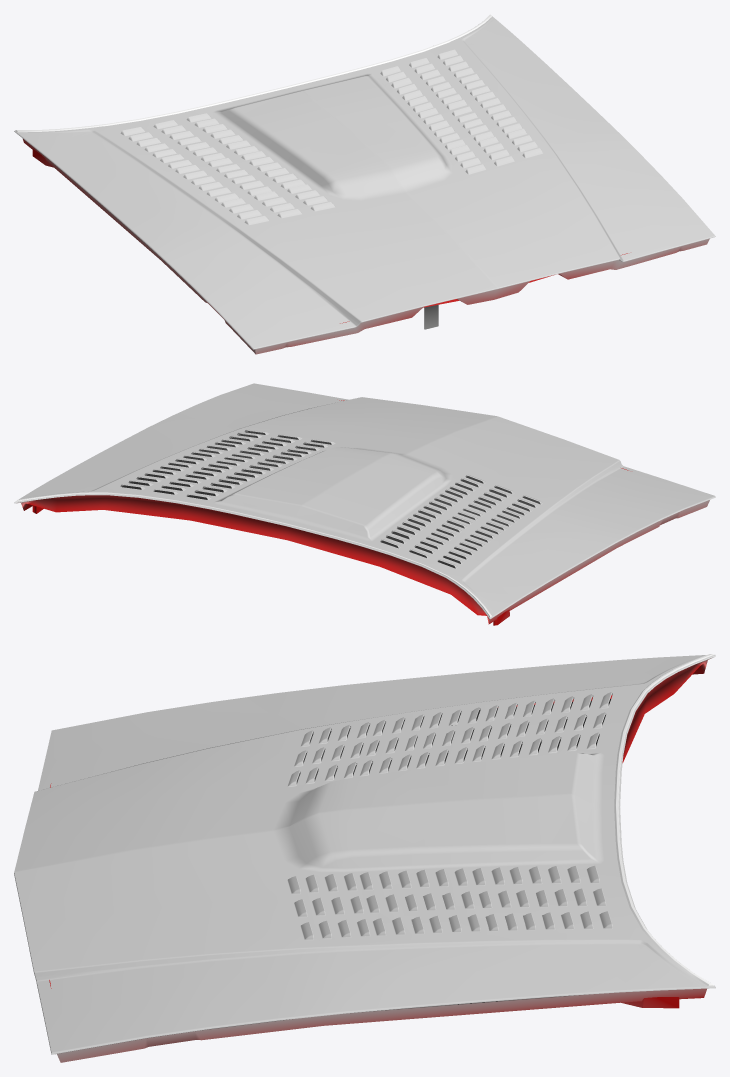
The model's file is Car_Buick_GrandNational_1987_Hood_SetB.fbx.
3 views of the same model, one above another, from view 1: azimuth 30°, elevation 25°; view 2: azimuth 150°, elevation 25°; view 3: azimuth 270°, elevation 25° (orthographic). The views are drawn at different scales.
Visible parts, largest first — view 1: Hood 6; view 2: Hood 6; view 3: Hood 6.
Part boxes in pixels (x1,y1,x2,y2): Hood 6: (14, 14, 715, 354); Hood 6: (14, 383, 715, 625); Hood 6: (14, 654, 715, 1062).
Size of the model in its own units: 1.56 by 0.2871 by 1.4.
